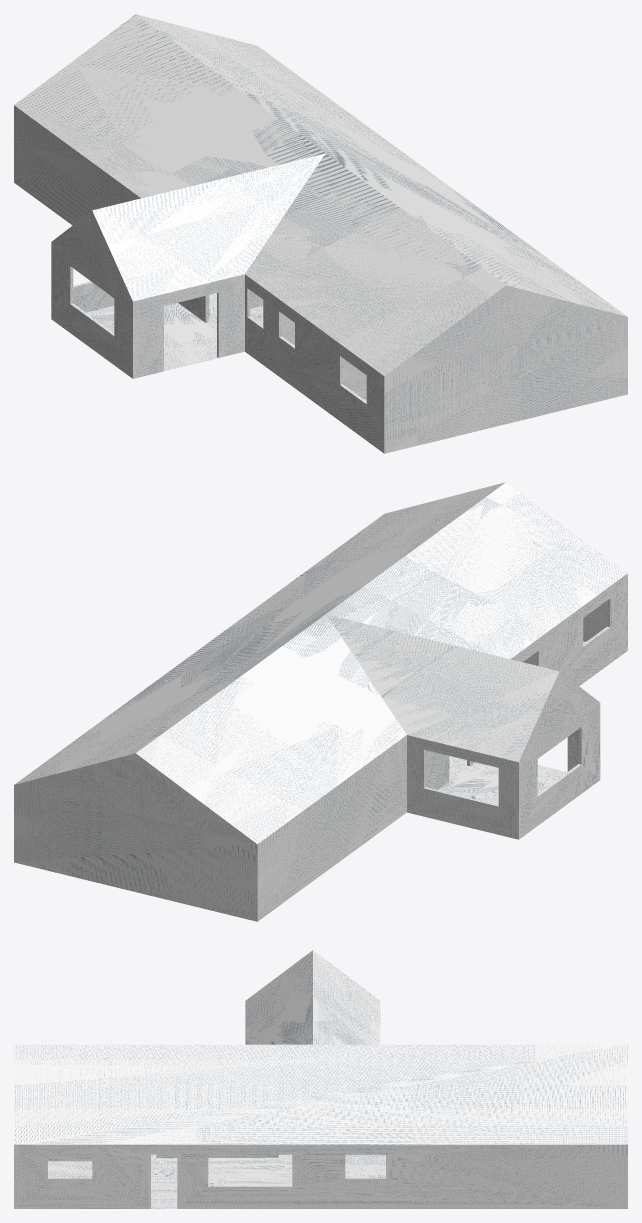
The model's file is NewHouseGroups.fbx.
The picture shows the model from 3 angles, top to bottom: view 1: azimuth 30°, elevation 25°; view 2: azimuth 150°, elevation 25°; view 3: azimuth 270°, elevation 25°; orthographic projection. The views are drawn at different scales.
Visible parts, largest first — view 1: Group7, Model, Group1, Group2; view 2: Group7, Model, Group1, Group2; view 3: Group7, Model, Group1, Group5.
Part boxes in pixels (x1=…): Group7: x1=14, y1=14, x2=627, y2=375; Model: x1=14, y1=105, x2=627, y2=453; Group1: x1=86, y1=293, x2=366, y2=400; Group2: x1=73, y1=282, x2=208, y2=322; Group7: x1=14, y1=482, x2=627, y2=843; Model: x1=14, y1=573, x2=627, y2=921; Group1: x1=438, y1=641, x2=585, y2=804; Group2: x1=425, y1=729, x2=578, y2=789; Group7: x1=14, y1=950, x2=627, y2=1144; Model: x1=14, y1=950, x2=627, y2=1208; Group1: x1=48, y1=1154, x2=385, y2=1208; Group5: x1=156, y1=1154, x2=278, y2=1157.
Size of the model in its own units: 461 by 172 by 832.
